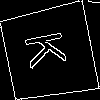K: (24, 27, 77, 70)
